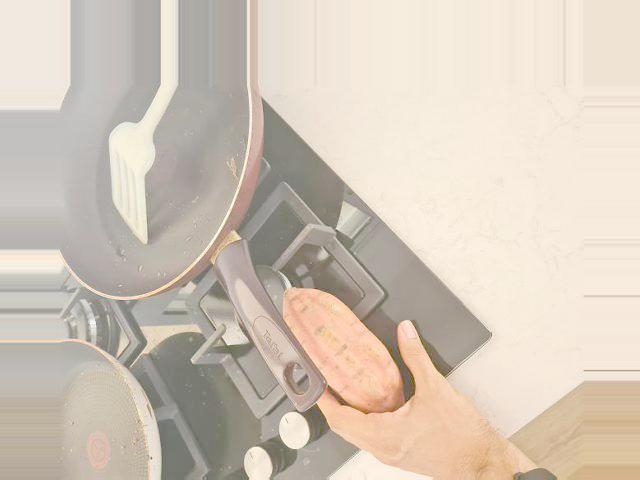sweet_potato: (278, 284, 405, 411)
